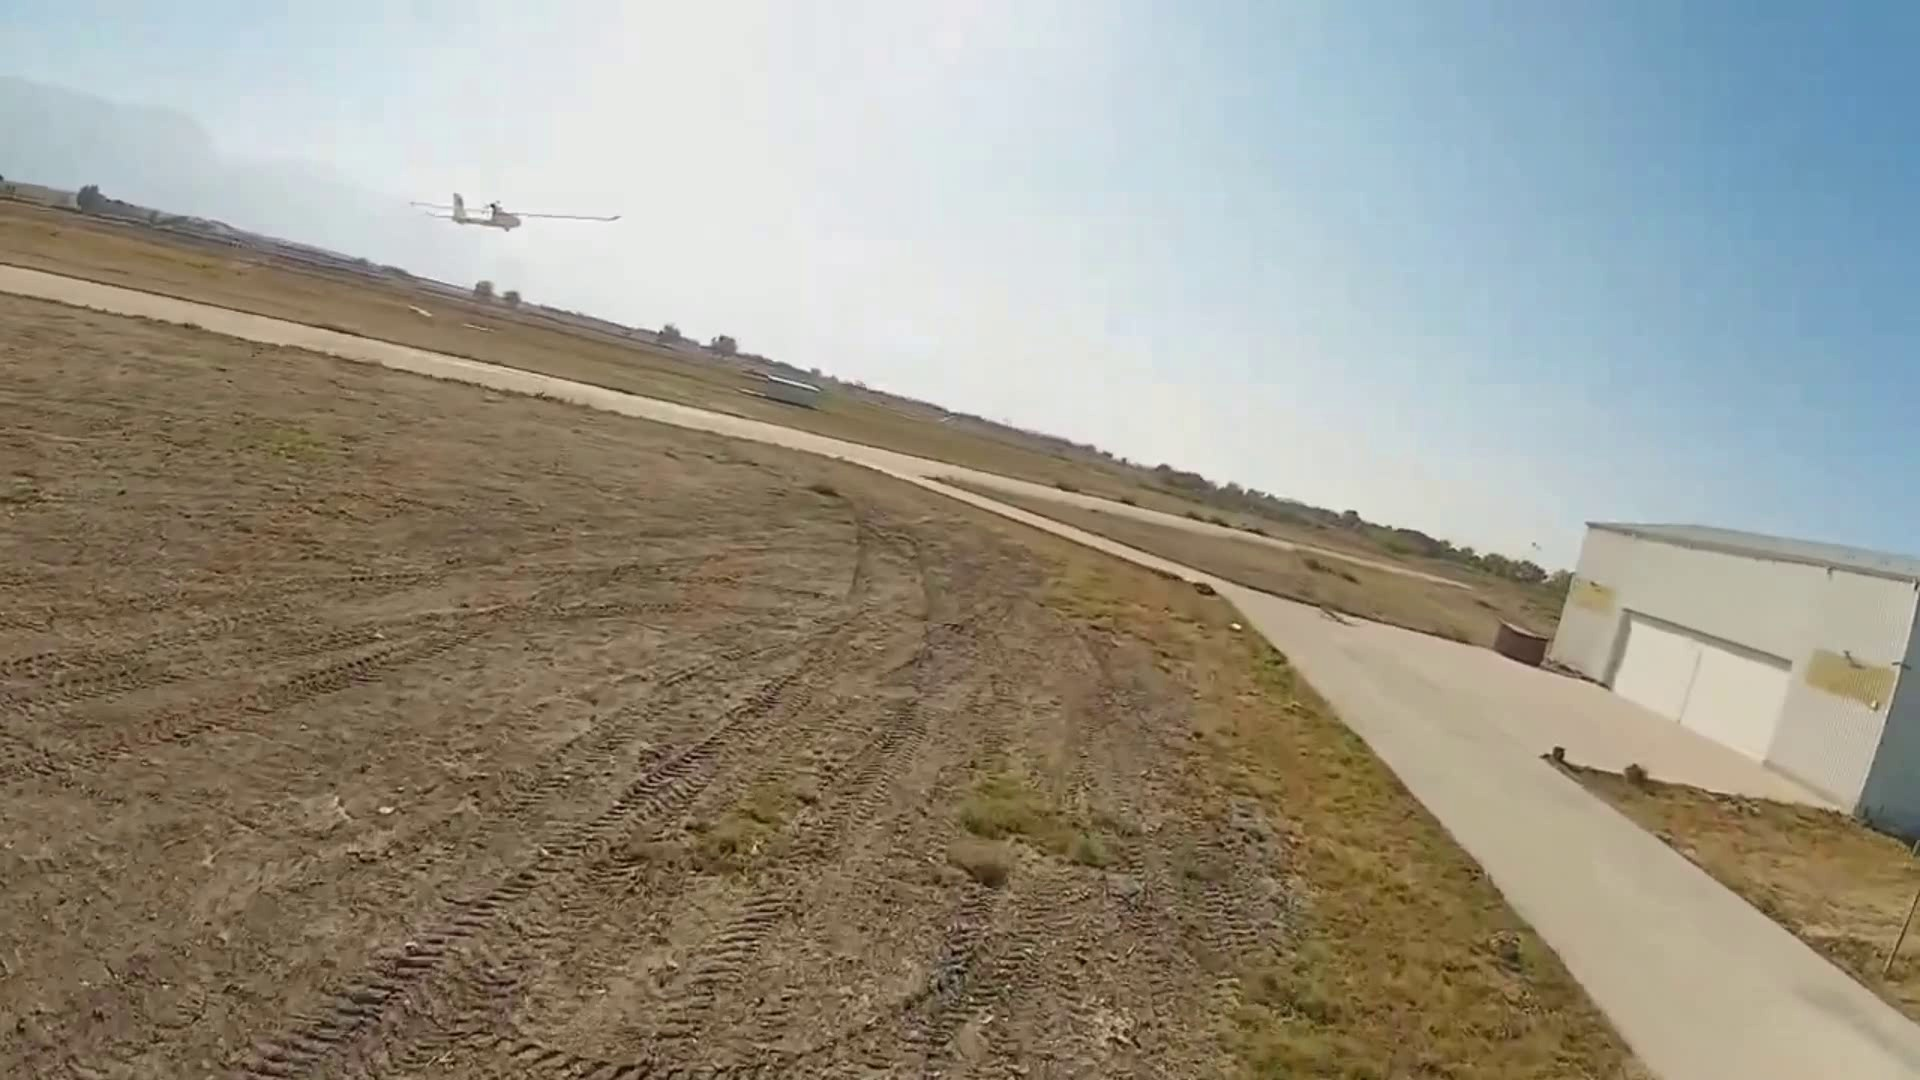airplane: (404, 170, 625, 232), (404, 189, 624, 233)
